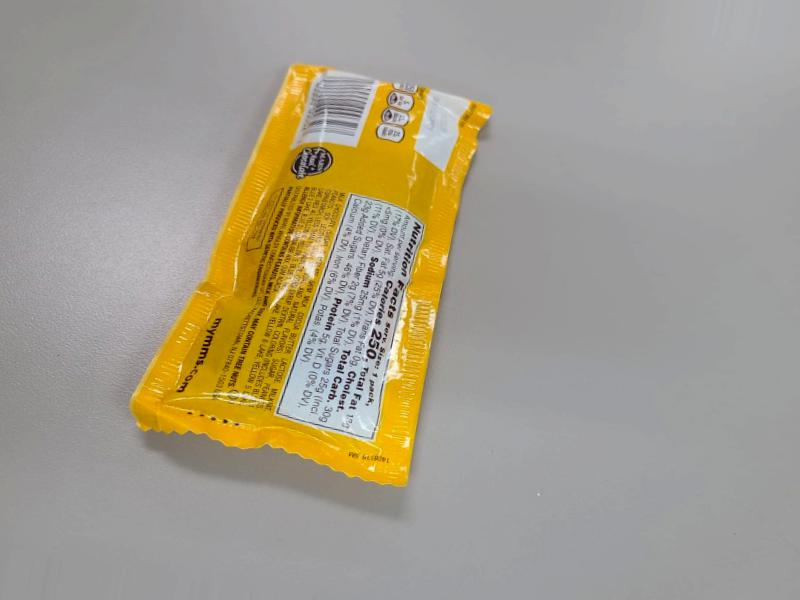m&m: (151, 62, 525, 533)
